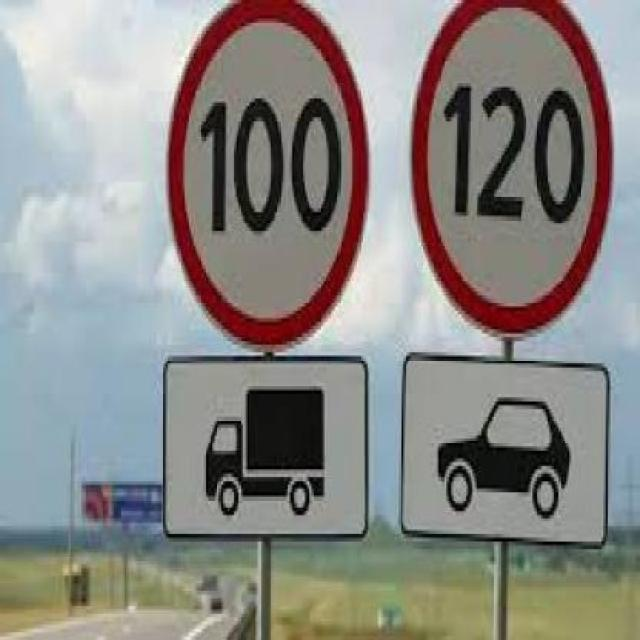forb_speed_over_100: (172, 2, 369, 349)
forb_speed_over_120: (416, 3, 613, 334)
